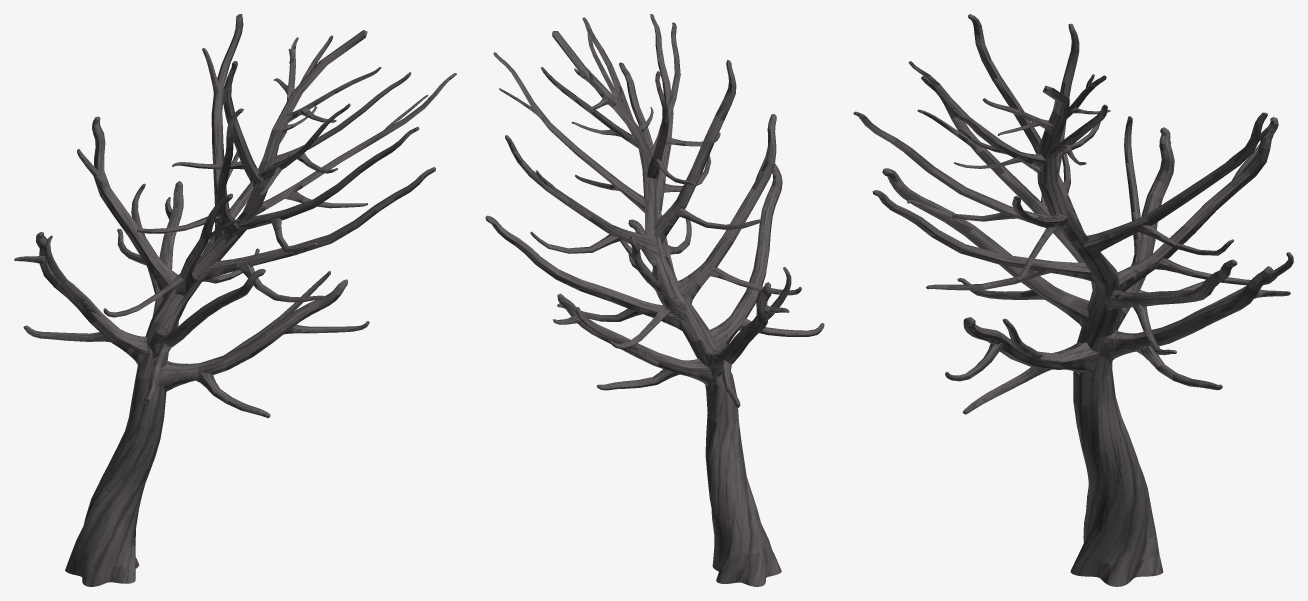
Rendered from arvore-inclinada.glb.
3 views of the same model, side by side, from view 1: azimuth 30°, elevation 25°; view 2: azimuth 150°, elevation 25°; view 3: azimuth 270°, elevation 25° (orthographic). The views are drawn at different scales.
Bounding box in the file's own units: 7.49 × 9.5 × 6.12.
1 material, 1 textured.
